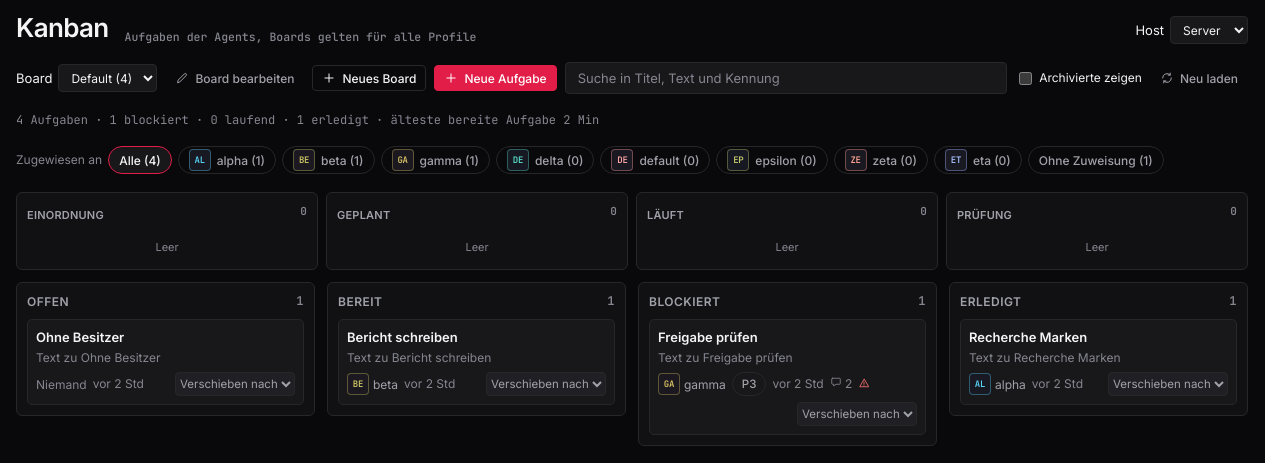
it: Kanban Board › wechselt das Board und zeigt das leere Board ehrlich
Expected: the text "Recherche Marken" is shown, [969,329,1087,345]
Select "Alpha (0)" in the dropdown labelled "Board" at (108, 78), box [58,64,157,92]
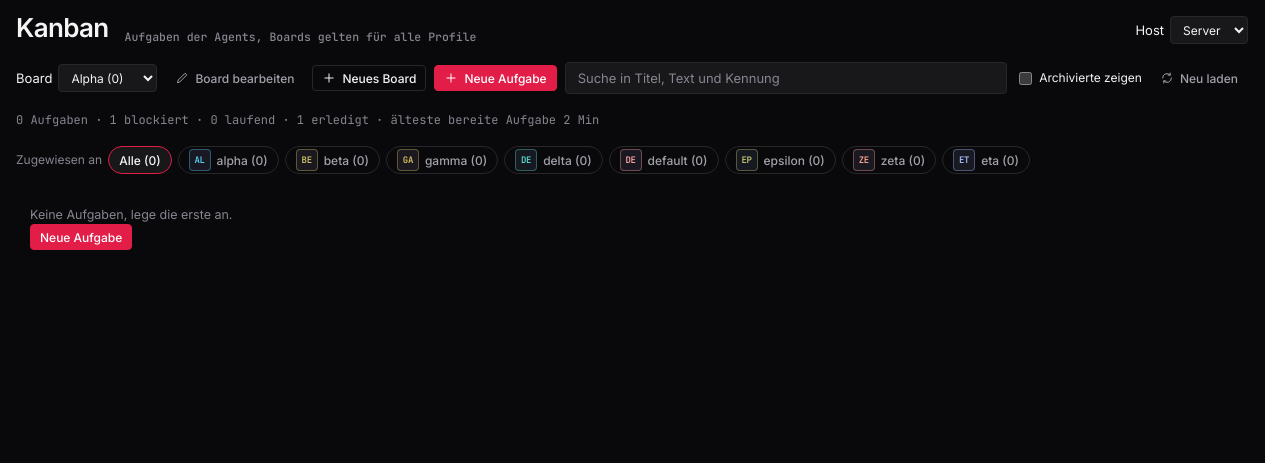
Result: the text "Keine Aufgaben, lege die erste an." is shown at [30,207,232,222]
